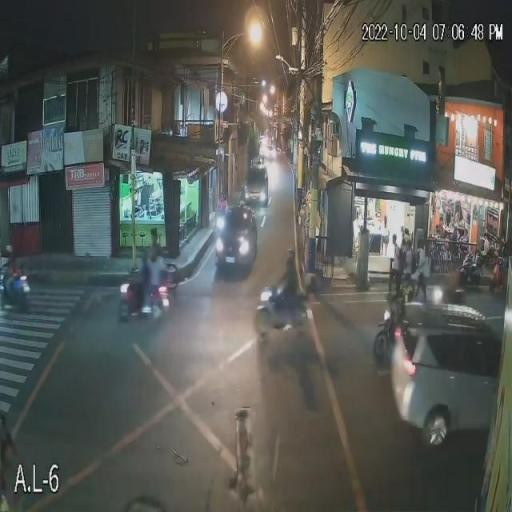helmet: (149, 245, 160, 256), (2, 245, 13, 255), (286, 247, 296, 257)
motorcycle: (255, 250, 308, 336), (117, 251, 176, 324), (372, 280, 410, 370), (0, 254, 31, 313), (454, 252, 486, 290)
rider: (270, 250, 302, 316), (144, 246, 166, 308), (382, 278, 404, 336), (127, 252, 149, 307), (0, 245, 20, 292), (487, 250, 504, 292)
